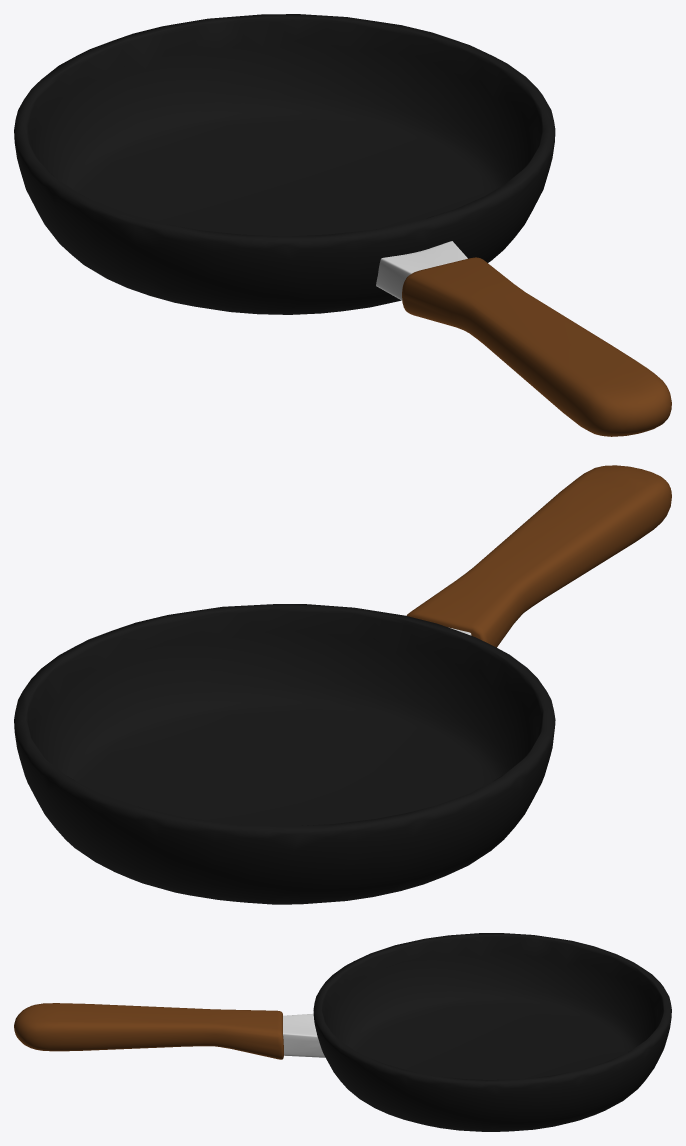
File: Frying pan.V2.fbx
3 renders of one model, top to bottom at view 1: azimuth 30°, elevation 25°; view 2: azimuth 150°, elevation 25°; view 3: azimuth 270°, elevation 25°, orthographic. The views are drawn at different scales.
Visible parts, largest first — view 1: Frying pan, Mango, Agarre; view 2: Frying pan, Mango; view 3: Frying pan, Mango, Agarre.
Part boxes in pixels (box(x1,y1,x2,y2)): Frying pan: box(14, 14, 555, 314); Mango: box(402, 257, 671, 436); Agarre: box(376, 241, 467, 300); Frying pan: box(14, 604, 555, 904); Mango: box(406, 465, 671, 647); Frying pan: box(313, 933, 671, 1131); Mango: box(14, 1003, 283, 1059); Agarre: box(283, 1013, 325, 1057).
Bounding box in the file's own units: 237 × 46.44 × 436.
